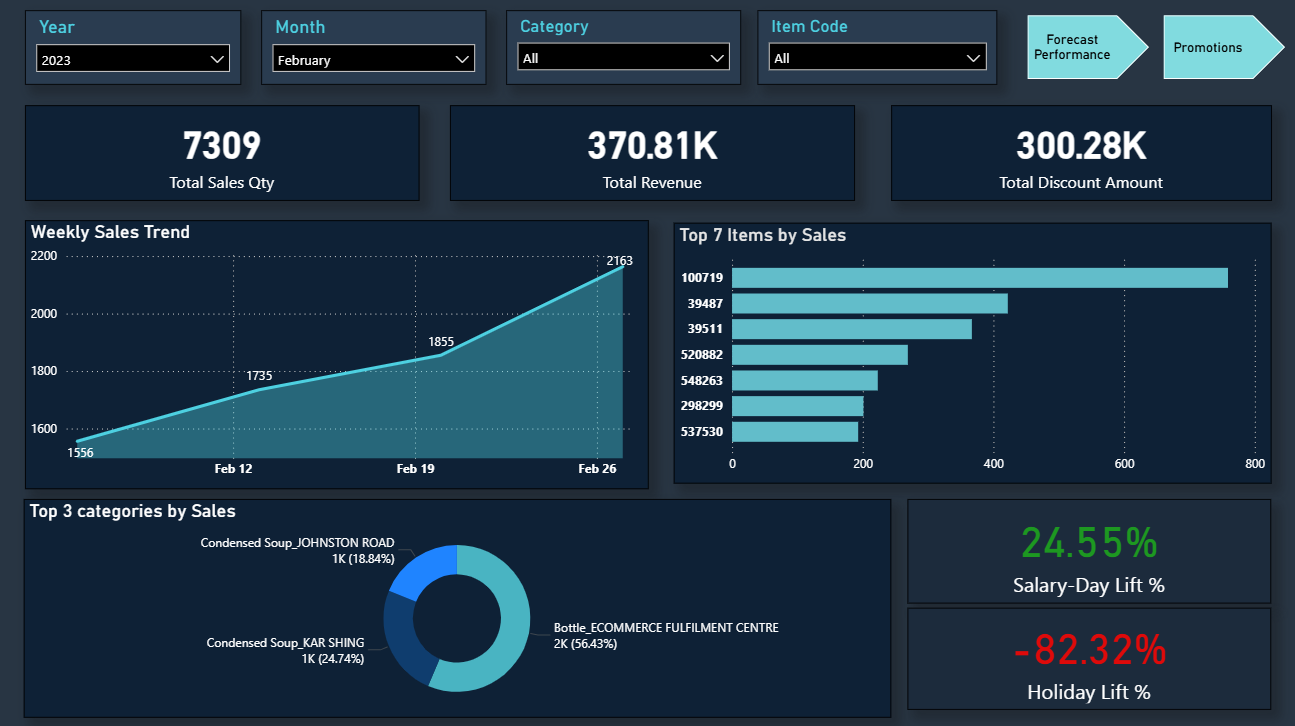

The dashboard page shown, as its layout file describes it:
{"tool":"powerbi","page":{"name":"Overview","canvas":[1280,720],"ordinal":0},"visuals":[{"type":"slicer","fields":{"Values":["Main.time_line.Variation.Date Hierarchy.Year"]},"box":[24.5,11,213.5,73.6],"z":0},{"type":"slicer","fields":{"Values":["Main.Anchor_Forecast"]},"box":[500.6,11,231.9,73.6],"z":1000},{"type":"slicer","fields":{"Values":["Main.Item Code"]},"box":[748.5,11,236.8,73.6],"z":2000},{"type":"slicer","fields":{"Values":["Main.time_line.Variation.Date Hierarchy.Month"]},"box":[257.7,11,222.1,73.6],"z":3000},{"type":"card","fields":{"Values":["Main.Total Sales Qty"]},"box":[24.3,105.1,389.5,94.3],"z":4000},{"type":"card","fields":{"Values":["Main.Total Revenue"]},"box":[444.7,105.1,400.3,94.3],"z":5000},{"type":"card","fields":{"Values":["Main.Total Discount Amount"]},"box":[880,105.1,376,94.3],"z":6000},{"type":"lineChart","title":"Weekly Sales Trend","fields":{"Y":["Sum(Main.Sales Quantity)"],"Category":["Main.time_line"]},"box":[24.3,218.3,615.9,265.5],"z":7000},{"type":"barChart","title":"Top 7 Items by Sales","fields":{"Category":["Main.Item Code"],"Y":["Sum(Main.Sales Quantity)"]},"box":[665.7,221,590.3,257.4],"z":8000},{"type":"donutChart","title":"Top 3 categories by Sales","fields":{"Category":["Main.Anchor_Forecast"],"Y":["Main.Total Sales Qty"]},"box":[23.3,493.3,856.4,216],"z":9000},{"type":"card","fields":{"Values":["Main.Salary-Day Lift %"]},"box":[895.7,493.3,359.5,103.1],"z":10000},{"type":"card","fields":{"Values":["Main.Holiday Lift %"]},"box":[895.7,601.2,359.5,100.6],"z":11000},{"type":"pageNavigator","box":[1014.7,16,255.2,63.8],"z":12000}]}

Visuals, with their boxes in screenshot pixels (x1, y1, x2, y2), scaled from the page's 1280x720 canvas onto the 1295x726 screenshot:
slicer - Main.time_line.Variation.Date Hierarchy.Year: [25,11,241,85]
slicer - Main.Anchor_Forecast: [506,11,741,85]
slicer - Main.Item Code: [757,11,997,85]
slicer - Main.time_line.Variation.Date Hierarchy.Month: [261,11,485,85]
card - Main.Total Sales Qty: [25,106,419,201]
card - Main.Total Revenue: [450,106,855,201]
card - Main.Total Discount Amount: [890,106,1271,201]
"Weekly Sales Trend" lineChart: [25,220,648,488]
"Top 7 Items by Sales" barChart: [674,223,1271,482]
"Top 3 categories by Sales" donutChart: [24,497,890,715]
card - Main.Salary-Day Lift %: [906,497,1270,601]
card - Main.Holiday Lift %: [906,606,1270,708]
pageNavigator: [1027,16,1285,80]
